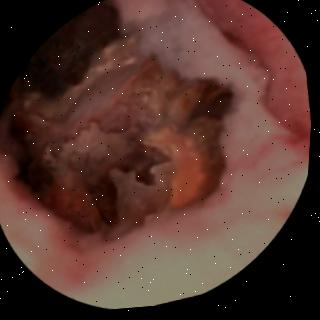stone: (5, 6, 232, 229)
